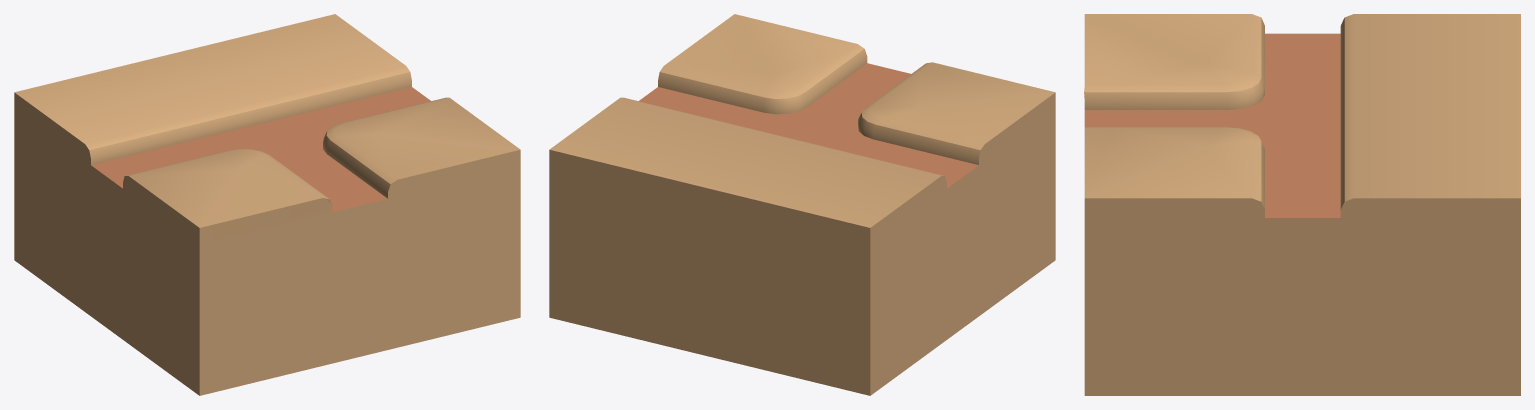
Rendered from kaykit-square-sand-roadd.glb.
3 renders of one model, left to right at view 1: azimuth 30°, elevation 25°; view 2: azimuth 150°, elevation 25°; view 3: azimuth 270°, elevation 25°, orthographic. The views are drawn at different scales.
Parts seen in each view (by area): view 1: square_sand_roadD; view 2: square_sand_roadD; view 3: square_sand_roadD.
Boxes of the visible parts, x1,y1,x2,y2 form: square_sand_roadD: [14, 14, 520, 395]; square_sand_roadD: [549, 14, 1055, 395]; square_sand_roadD: [1084, 14, 1520, 395].
Bounding box in the file's own units: 2 × 1 × 2.
